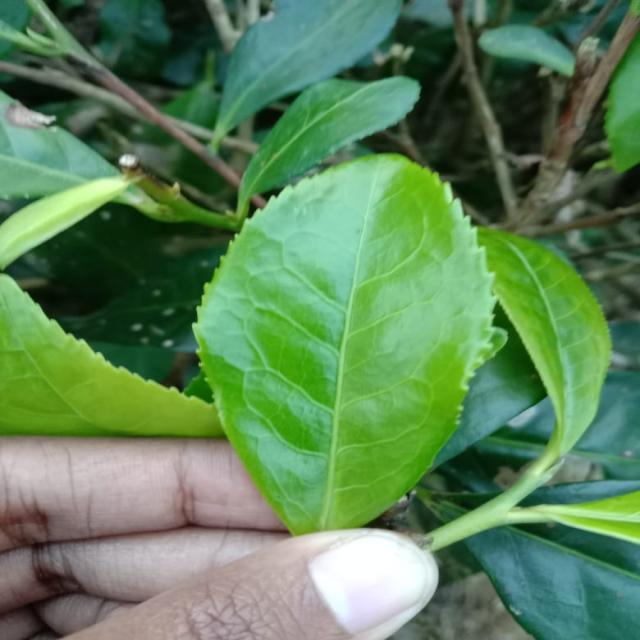Category C 4-7 days: (173, 128, 522, 547)
